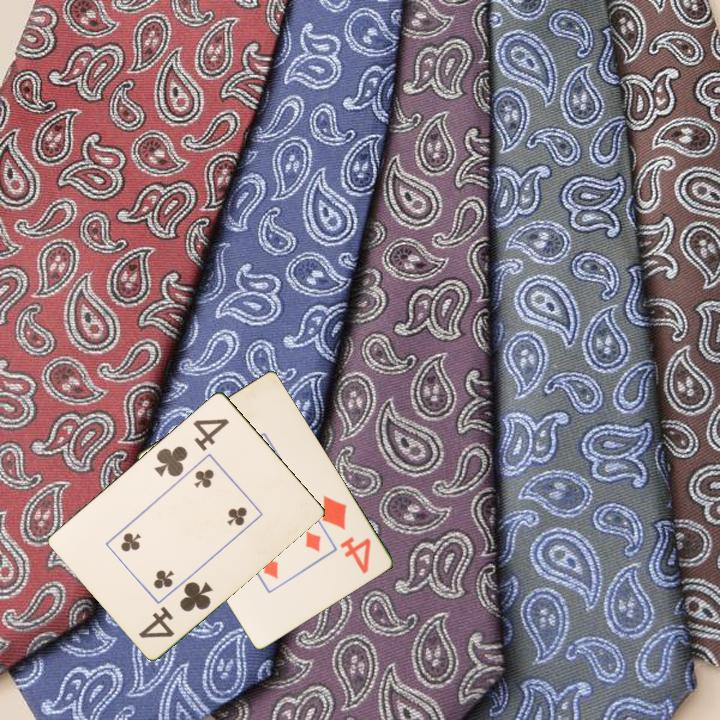4c: (151, 414, 232, 479), (135, 577, 216, 641)
4d: (318, 492, 374, 577)
